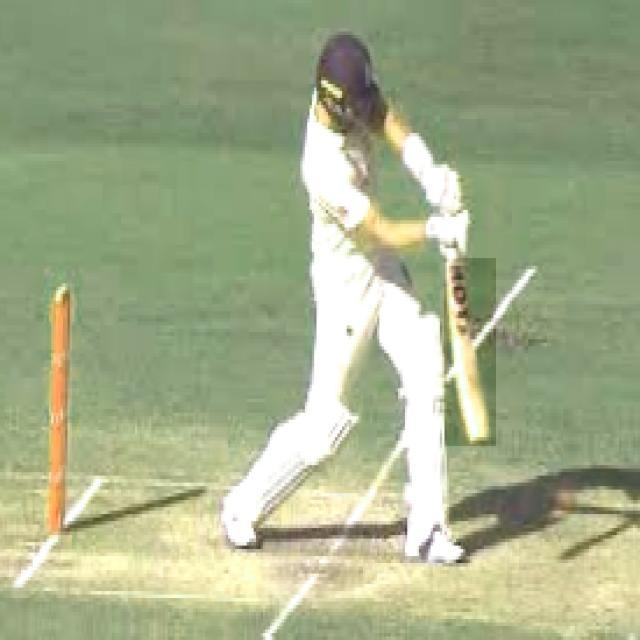bat: (449, 263, 496, 448)
toe: (469, 428, 509, 455)
